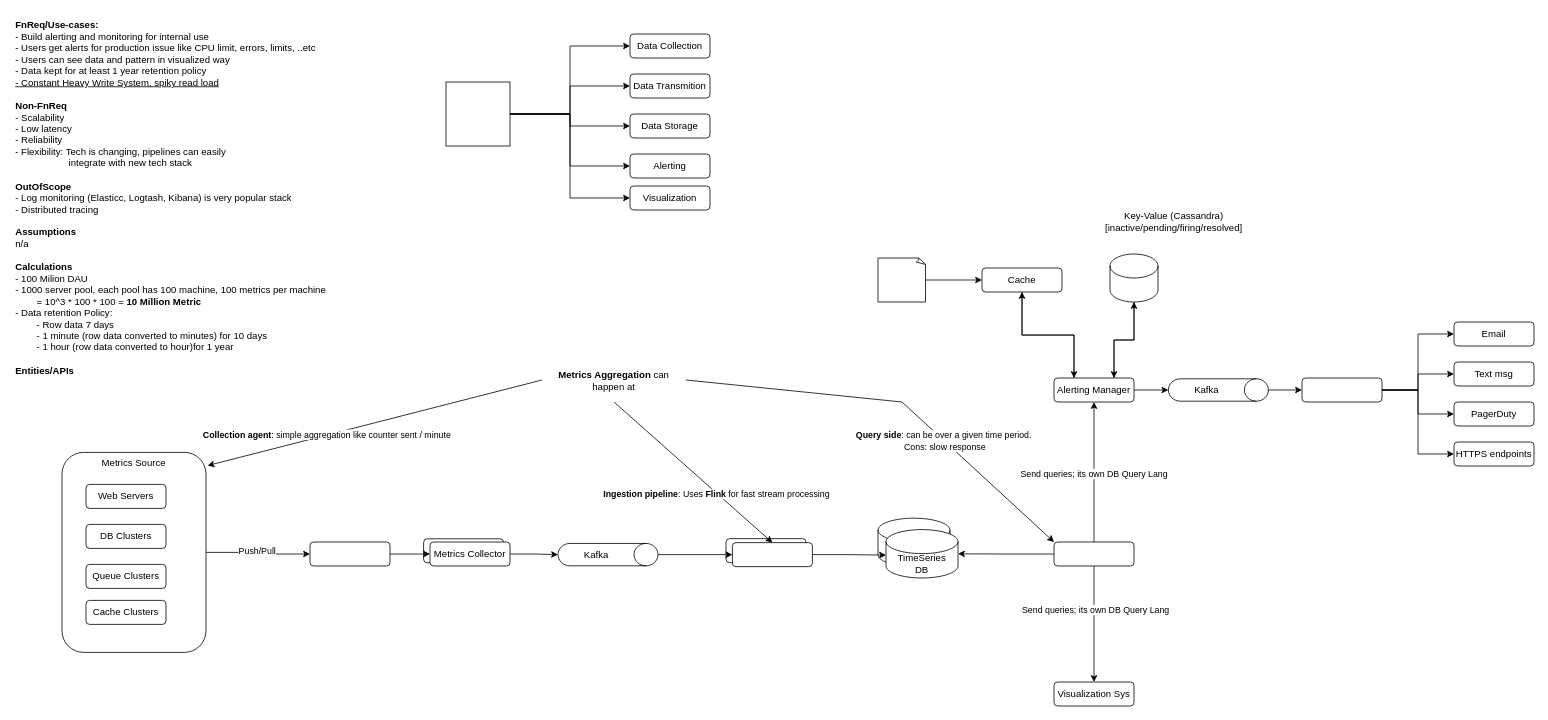
The diagram is 1548 pixels wide and 720 high, and some of its shapes have lost their labels. Each missing label, with the centre of its shape:
"5 main components" belongs at pixel 477 113.
"Alert Store" belongs at pixel 1133 277.
"Consumer" belongs at pixel 1341 389.
"Consumers" belongs at pixel 772 554.
"LB" belongs at pixel 349 553.
"Metrics Collector / Query Service" belongs at pixel 1093 553.
"Rule Config Files" belongs at pixel 901 279.
